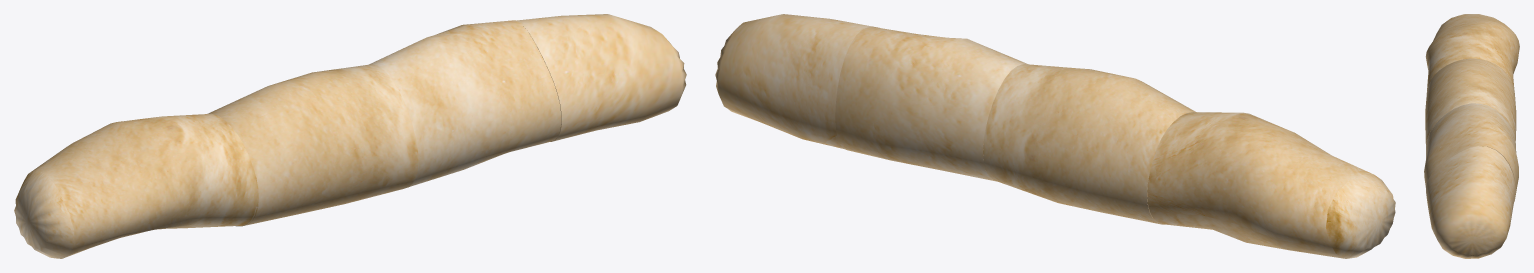
Rendered from KneadDough.fbx.
3 renders of one model, left to right at view 1: azimuth 30°, elevation 25°; view 2: azimuth 150°, elevation 25°; view 3: azimuth 270°, elevation 25°, orthographic. The views are drawn at different scales.
Parts seen in each view (by area): view 1: part4, part3, part2, part1; view 2: part4, part3, part2, part1; view 3: part1, part3, part2, part4.
Boxes of the visible parts, left/top/right/bottom form: part4: left=14, top=113, right=258, bottom=258; part3: left=207, top=64, right=418, bottom=226; part2: left=369, top=20, right=561, bottom=186; part1: left=516, top=14, right=686, bottom=141; part4: left=1147, top=112, right=1395, bottom=258; part3: left=983, top=64, right=1196, bottom=224; part2: left=835, top=26, right=1027, bottom=181; part1: left=715, top=14, right=879, bottom=149; part1: left=1426, top=146, right=1515, bottom=258; part3: left=1425, top=58, right=1516, bottom=145; part2: left=1424, top=103, right=1518, bottom=201; part4: left=1425, top=14, right=1519, bottom=93.
Bounding box in the file's own units: 20.67 × 3.93 × 4.02.
